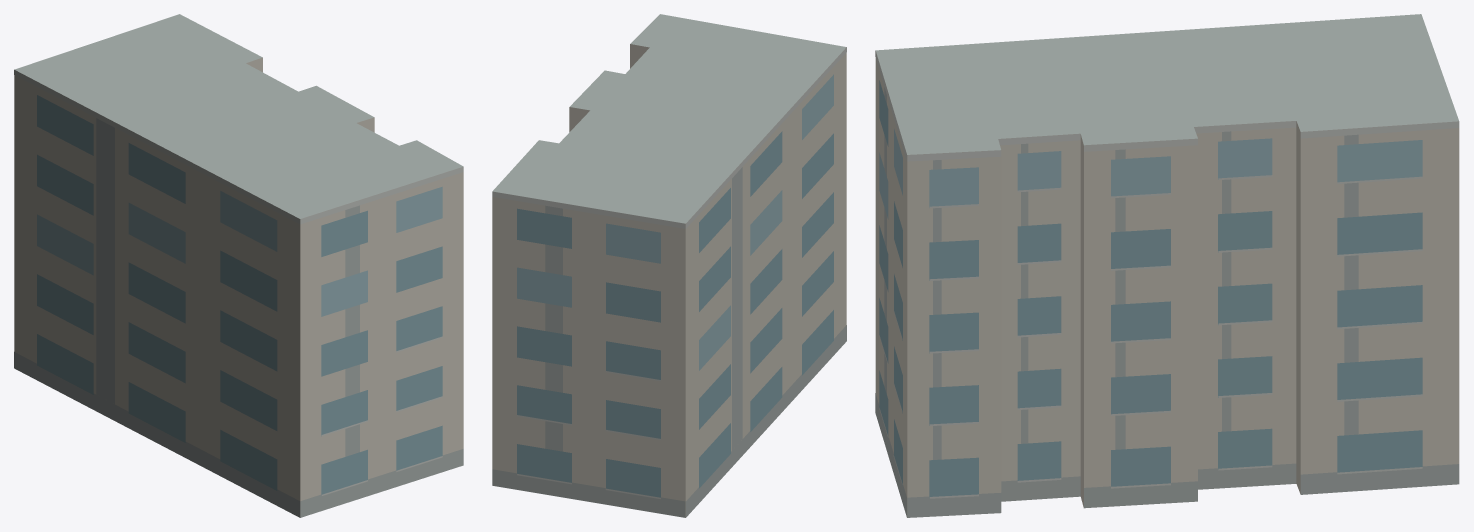
File: survey-upis-32576236.glb
3 renders of one model, left to right at view 1: azimuth 30°, elevation 25°; view 2: azimuth 150°, elevation 25°; view 3: azimuth 270°, elevation 25°, orthographic. The views are drawn at different scales.
Parts seen in each view (by area): view 1: survey-upis-32576236.tmp; view 2: survey-upis-32576236.tmp; view 3: survey-upis-32576236.tmp.
Part boxes in pixels (x1,y1,x2,y2): survey-upis-32576236.tmp: (14, 14, 463, 517); survey-upis-32576236.tmp: (492, 14, 846, 517); survey-upis-32576236.tmp: (875, 14, 1459, 517).
Size of the model in its own units: 11.09 by 13.3 by 19.4.
